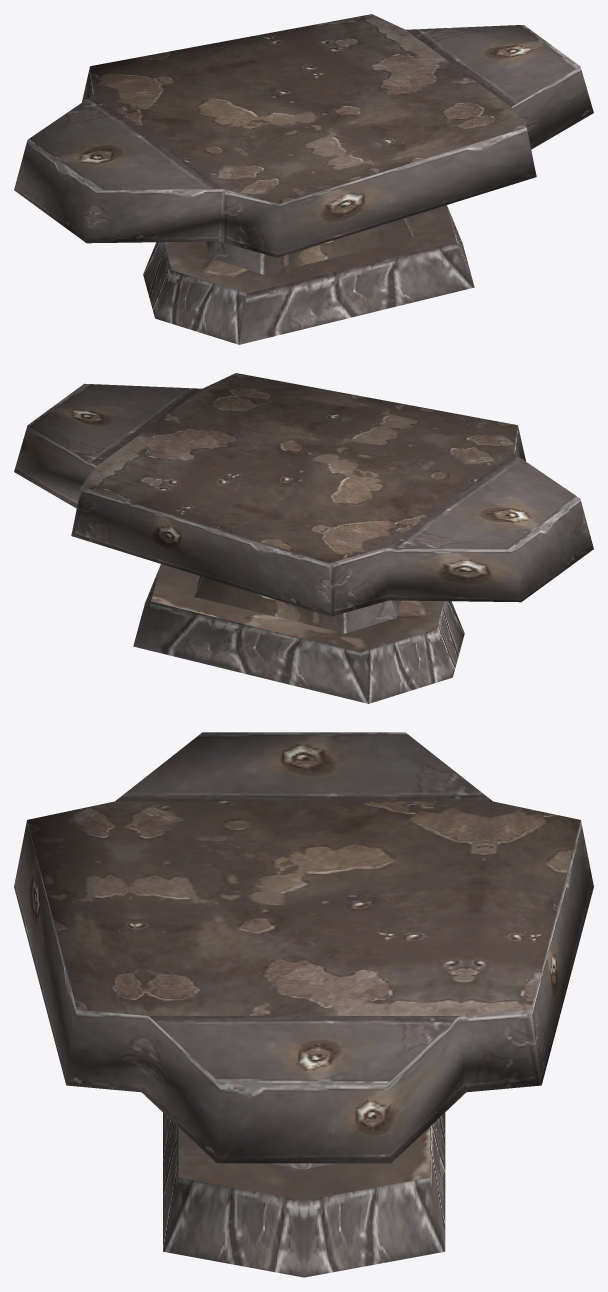
The model's file is gnometable02.obj.
The picture shows the model from 3 angles, top to bottom: view 1: azimuth 30°, elevation 25°; view 2: azimuth 150°, elevation 25°; view 3: azimuth 270°, elevation 25°; orthographic projection. The views are drawn at different scales.
Visible parts, largest first — view 1: GnomeTable02; view 2: GnomeTable02; view 3: GnomeTable02.
Part boxes in pixels (left/top/right/bottom): GnomeTable02: left=14, top=14, right=593, bottom=344; GnomeTable02: left=14, top=373, right=593, bottom=703; GnomeTable02: left=14, top=732, right=593, bottom=1277.
Size of the model in its own units: 3.37 by 1.1 by 2.24.
Materials: 1 (1 with a texture image).
